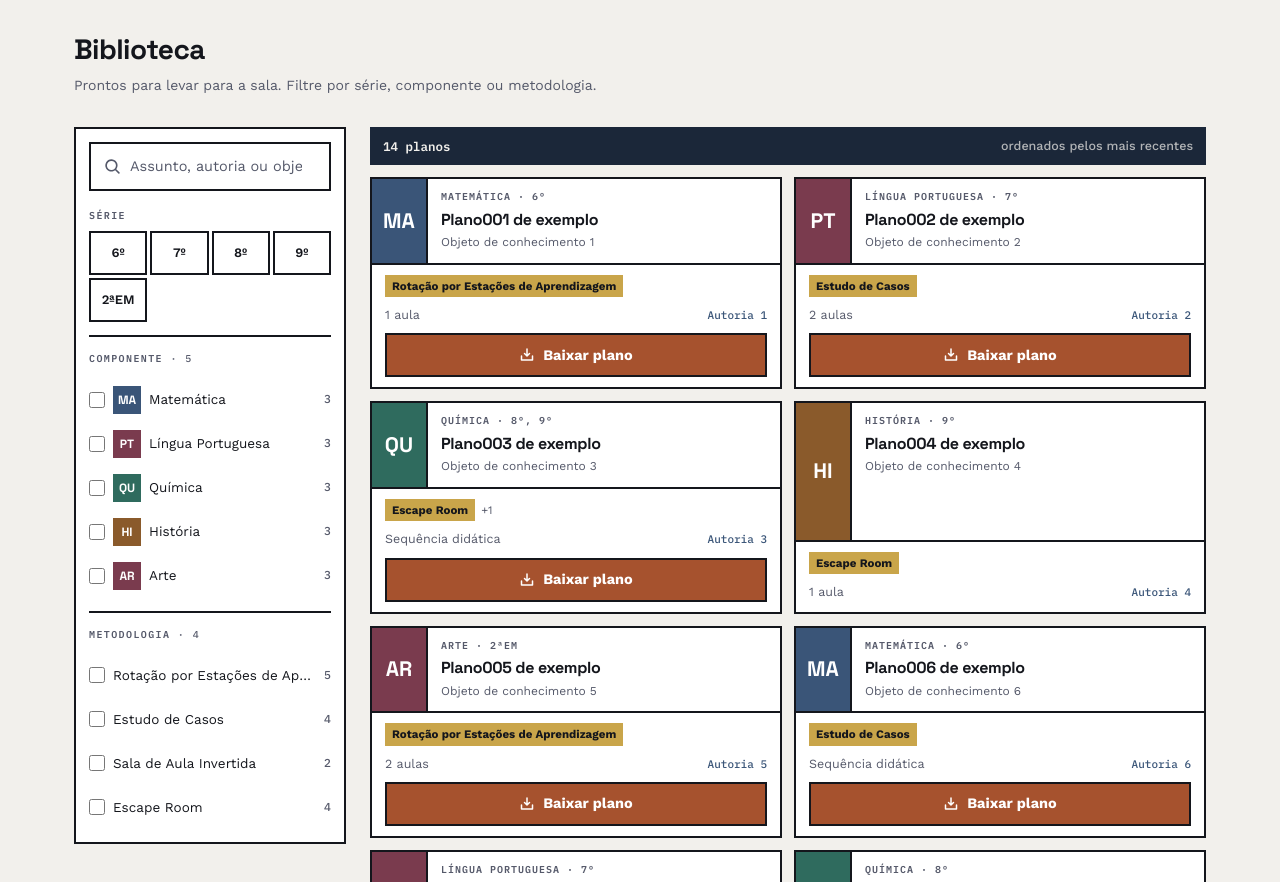
Test: PaginaBiblioteca › série + componente juntos restringem o resultado (E entre grupos)
Expected: the text "14 planos" is shown, [383,137,450,155]
Click the button named "9º ano do Ensino Fundamental" at (302, 253), box [273,231,331,275]
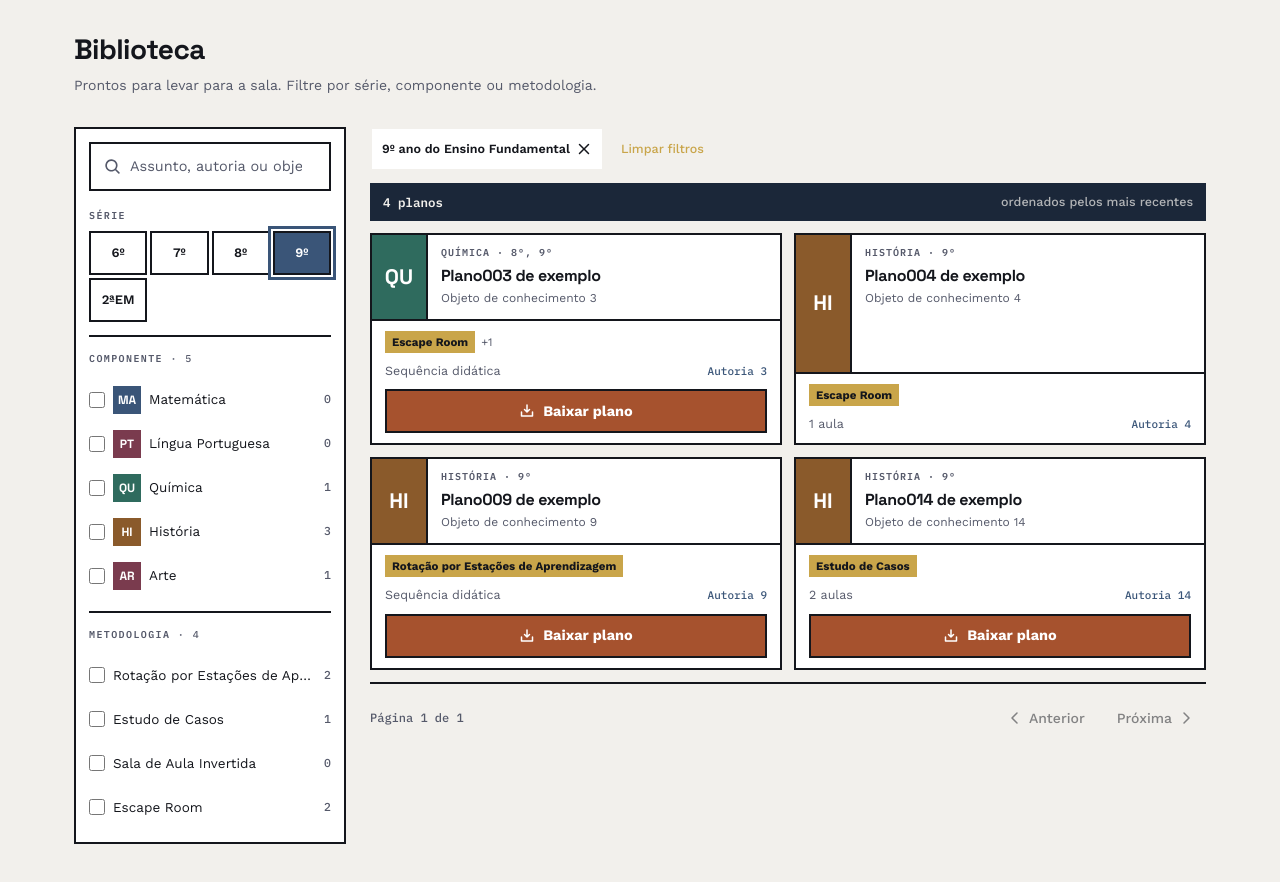
Click the checkbox labelled "AR Arte 1" at (97, 576), box [89,568,105,584]
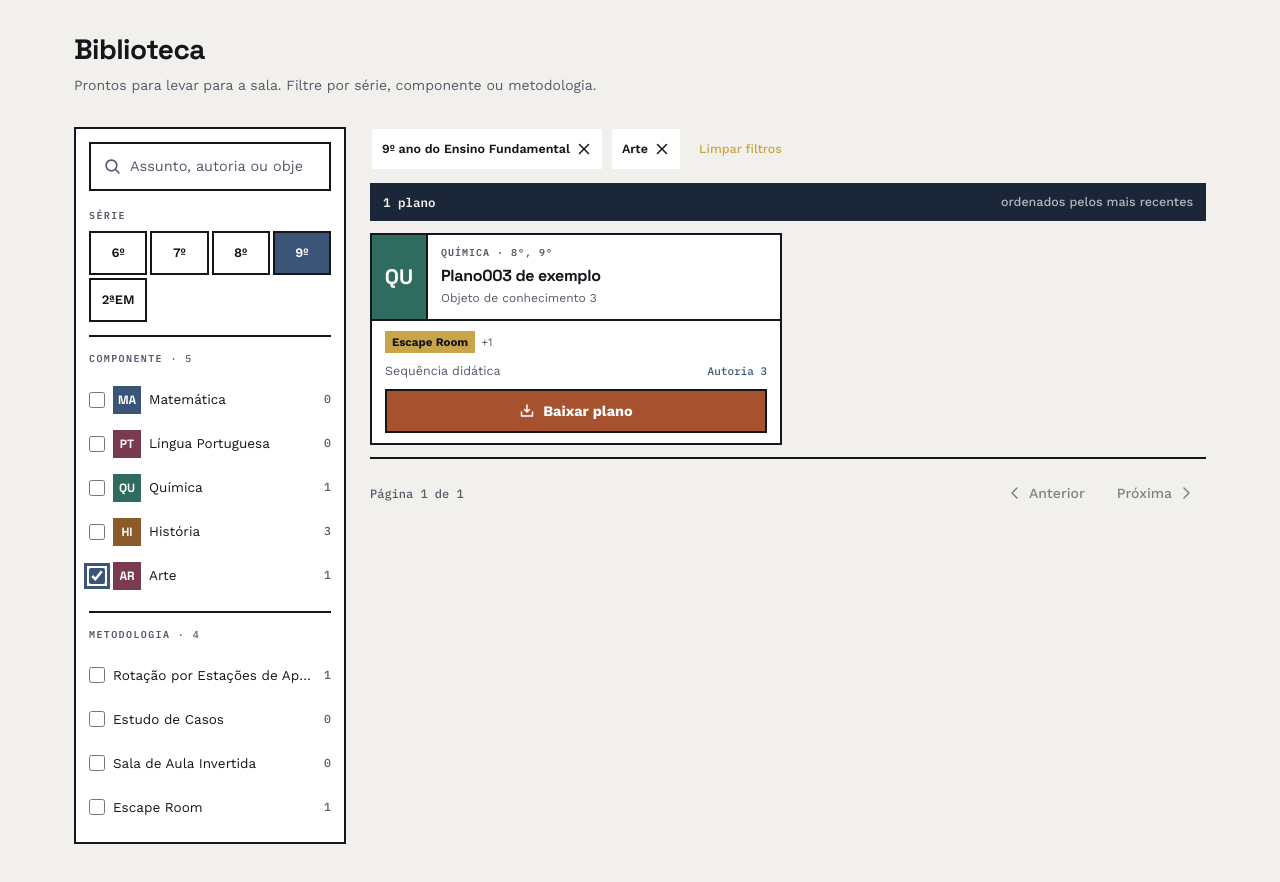
Expected: the heading "Plano003 de exemplo" is shown, [441,265,601,286]
Now the text "1 plano" is shown, box [383,193,436,211]
